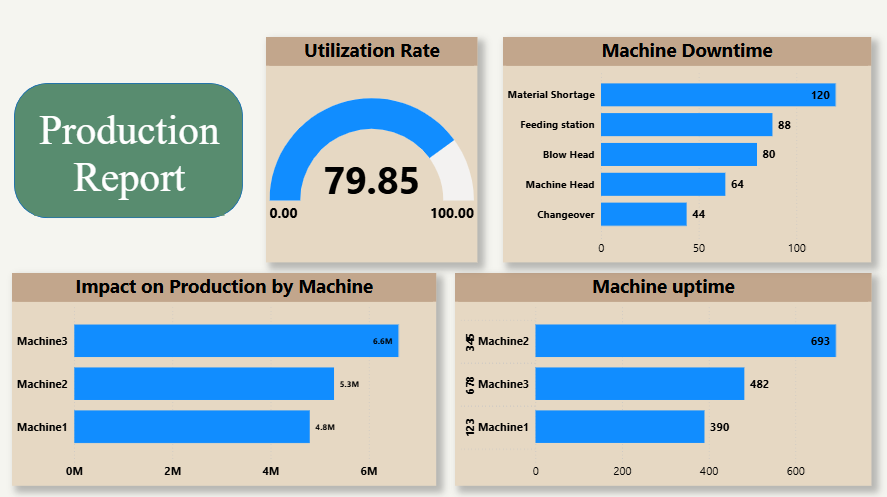

What the dashboard file says about the page in this screenshot:
{"tool":"powerbi","page":{"name":"Production(1)","canvas":[1280,720],"ordinal":12},"visuals":[{"type":"shape","box":[21.4,120,327.2,193.1],"z":0,"group":"g1"},{"type":"barChart","title":"Machine uptime","fields":{"Category":["Production.Machine ID","Production.Machine Name"],"Y":["Sum(Production.Operational Hours)"]},"box":[650.7,391.5,595.3,303.9],"z":0},{"type":"barChart","title":"Machine Downtime","fields":{"Category":["Production.Downtime"],"Y":["Sum(Production.Duration)"]},"box":[720.4,53.6,525.6,321.8],"z":1000},{"type":"textbox","box":[49.4,148.3,272.4,161.4],"z":1000,"group":"g1"},{"type":"gauge","fields":{"Y":["ProMeasures.Utilization Rate"]},"box":[380.8,53.6,302.1,321.8],"z":2000},{"type":"clusteredBarChart","title":"Impact on Production by Machine","fields":{"Category":["Production.Machine Name","Production.Downtime"],"Y":["ProMeasures.Impact on Production"]},"box":[17.9,391.5,606,303.9],"z":3000},{"type":"group","id":"g1","title":"Group 1","box":[21.4,120,327.1,188.6],"z":4000}]}

Visuals, with their boxes in screenshot pixels (x1, y1, x2, y2), scaled from the page's 1280x720 canvas onto the 887x497 screenshot:
shape: bbox=(15, 83, 242, 216)
"Machine uptime" barChart: bbox=(451, 270, 863, 480)
"Machine Downtime" barChart: bbox=(499, 37, 863, 259)
textbox: bbox=(34, 102, 223, 214)
gauge - ProMeasures.Utilization Rate: bbox=(264, 37, 473, 259)
"Impact on Production by Machine" clusteredBarChart: bbox=(12, 270, 432, 480)
"Group 1" group: bbox=(15, 83, 241, 213)
